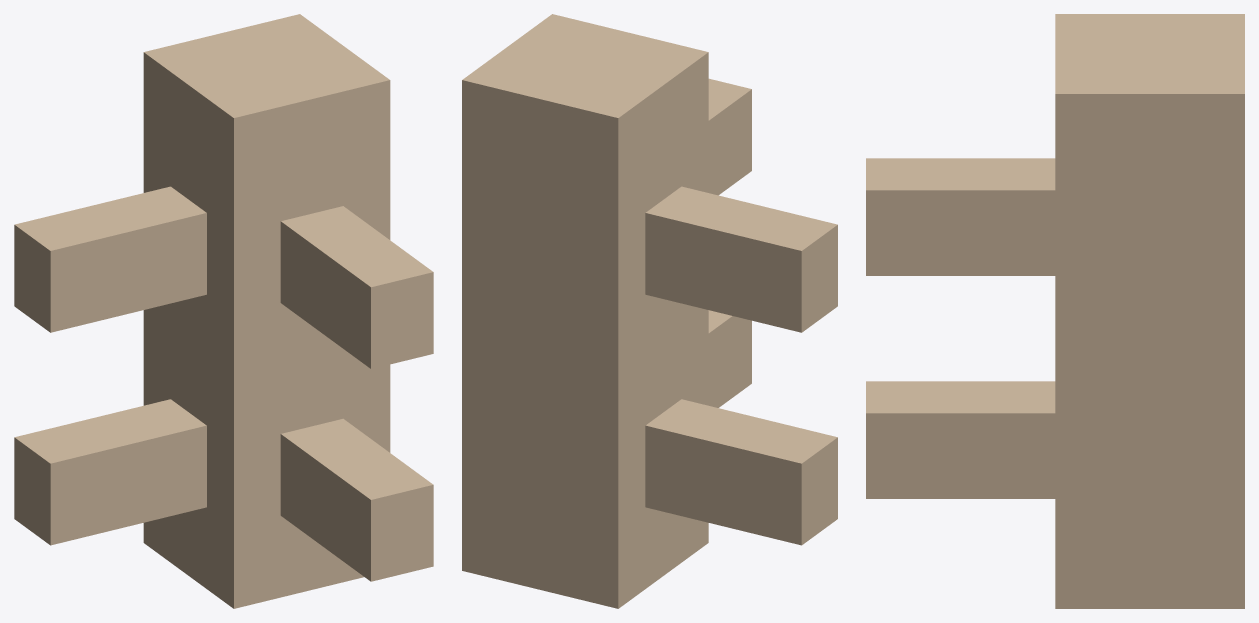
File: FenceCornerMesh.gltf
The picture shows the model from 3 angles, left to right: view 1: azimuth 30°, elevation 25°; view 2: azimuth 150°, elevation 25°; view 3: azimuth 270°, elevation 25°; orthographic projection. The views are drawn at different scales.
Visible parts, largest first — view 1: FenceCorner; view 2: FenceCorner; view 3: FenceCorner.
Part boxes in pixels (bbox=[...]): FenceCorner: bbox=[14, 14, 433, 608]; FenceCorner: bbox=[462, 14, 837, 608]; FenceCorner: bbox=[866, 14, 1244, 608].
Bounding box in the file's own units: 2 × 3 × 2.
